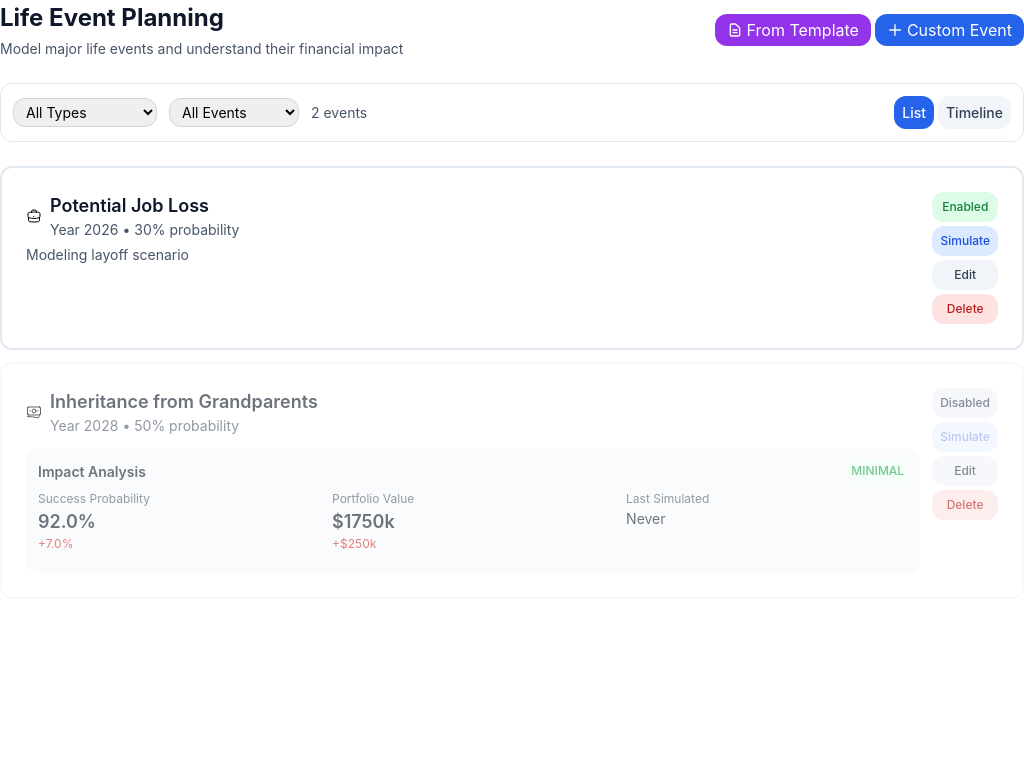
Test: LifeEventManager › Event Management › opens template selector
expect the heading "Potential Job Loss" is shown: met, box 50,195 -> 209,216
Click the button "From Template". click: (793, 30)
box: 715,14 -> 871,46
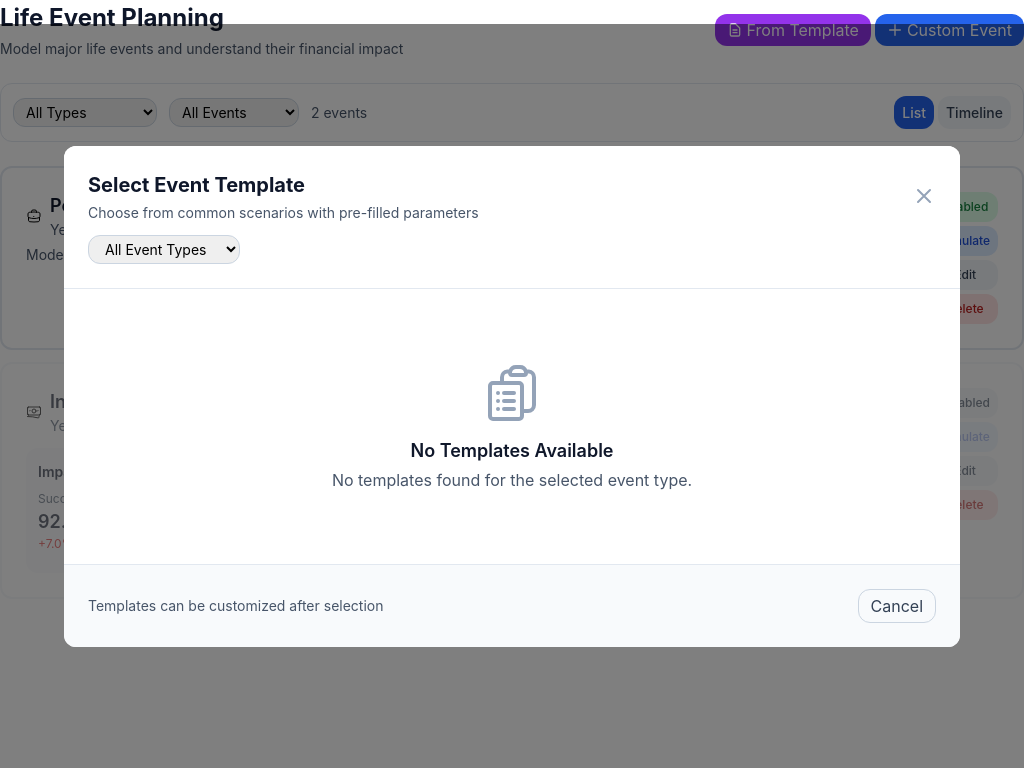
expect the heading "Select Event Template" is shown: met, box 88,172 -> 305,196
